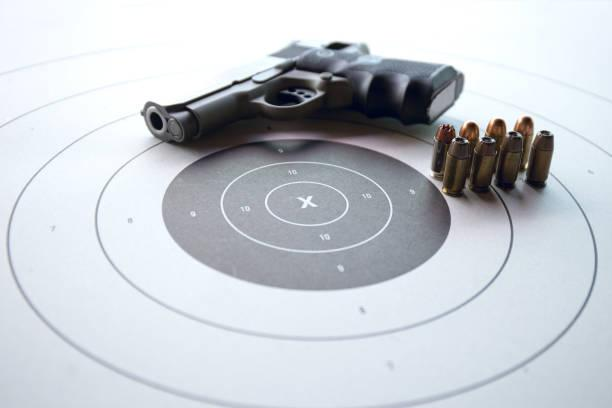weapon: (142, 35, 465, 144)
